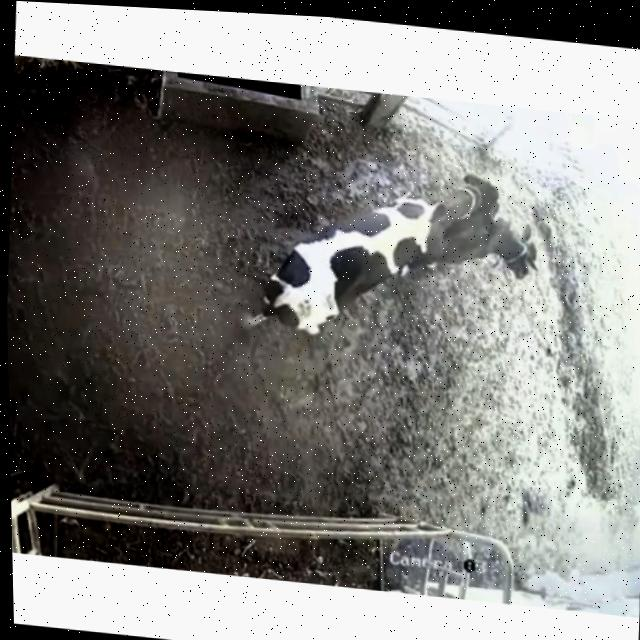ride: (243, 133, 511, 407)
